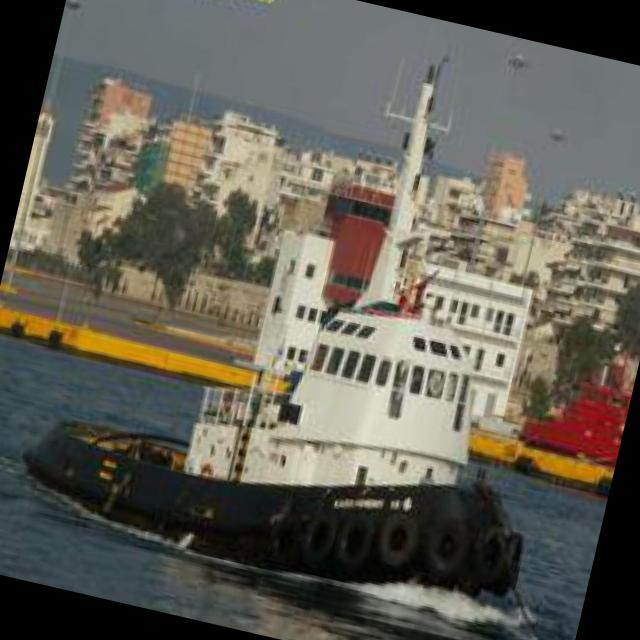boat: (8, 206, 578, 623)
